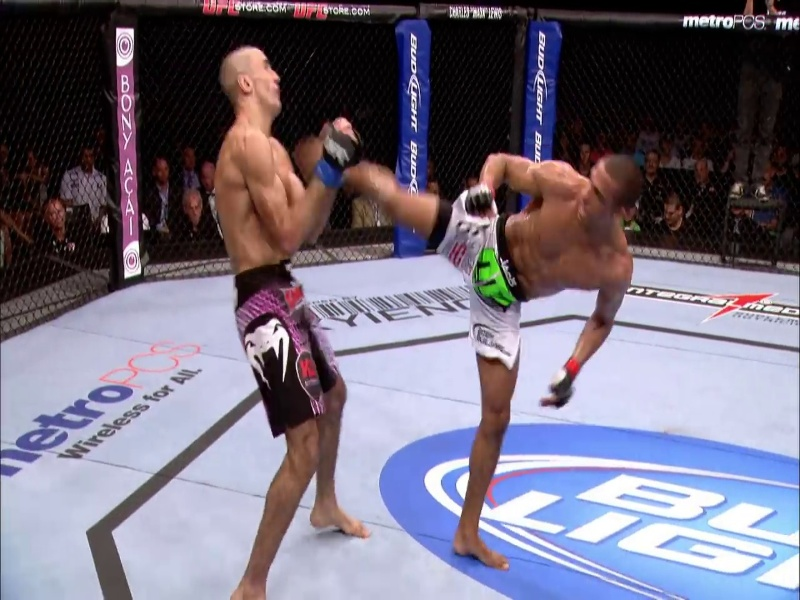fighter: (309, 118, 649, 577), (181, 42, 389, 600)
